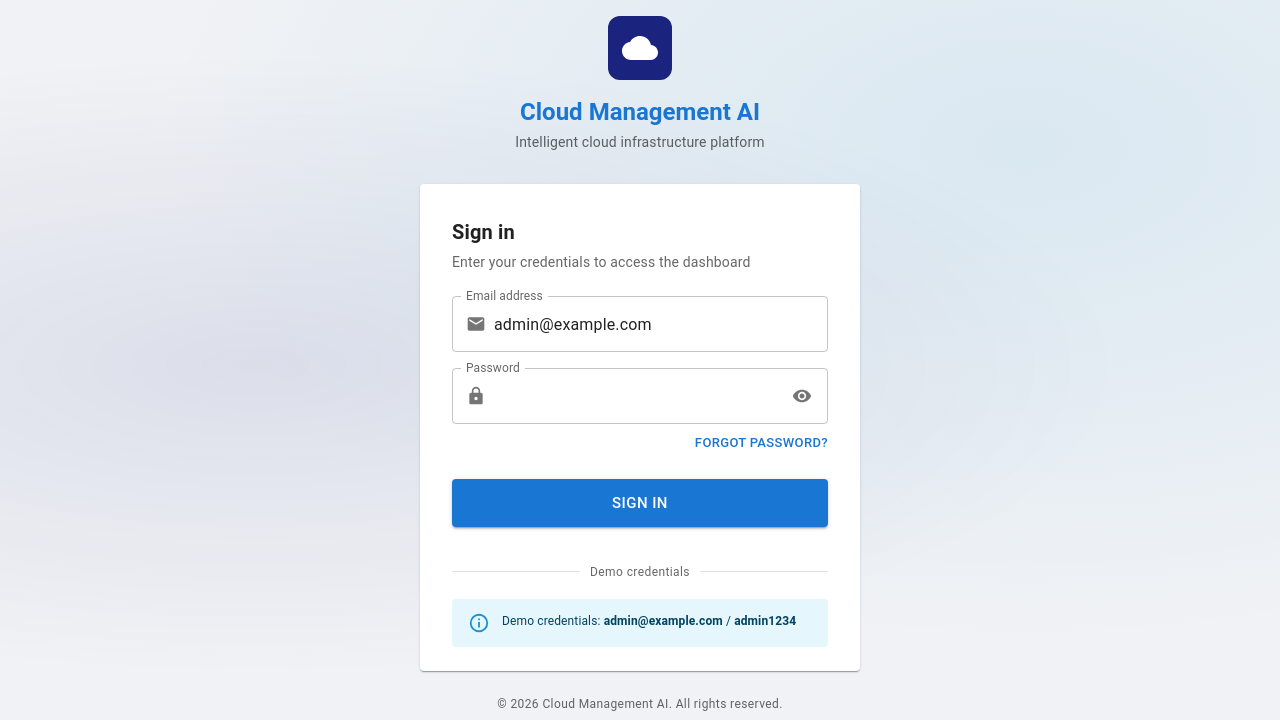
Login page › shows an error when submitting empty password
The image size is (1280, 720).
Clear the field labelled "Email address" at (661, 324), box x1=494 y1=296 x2=828 y2=352
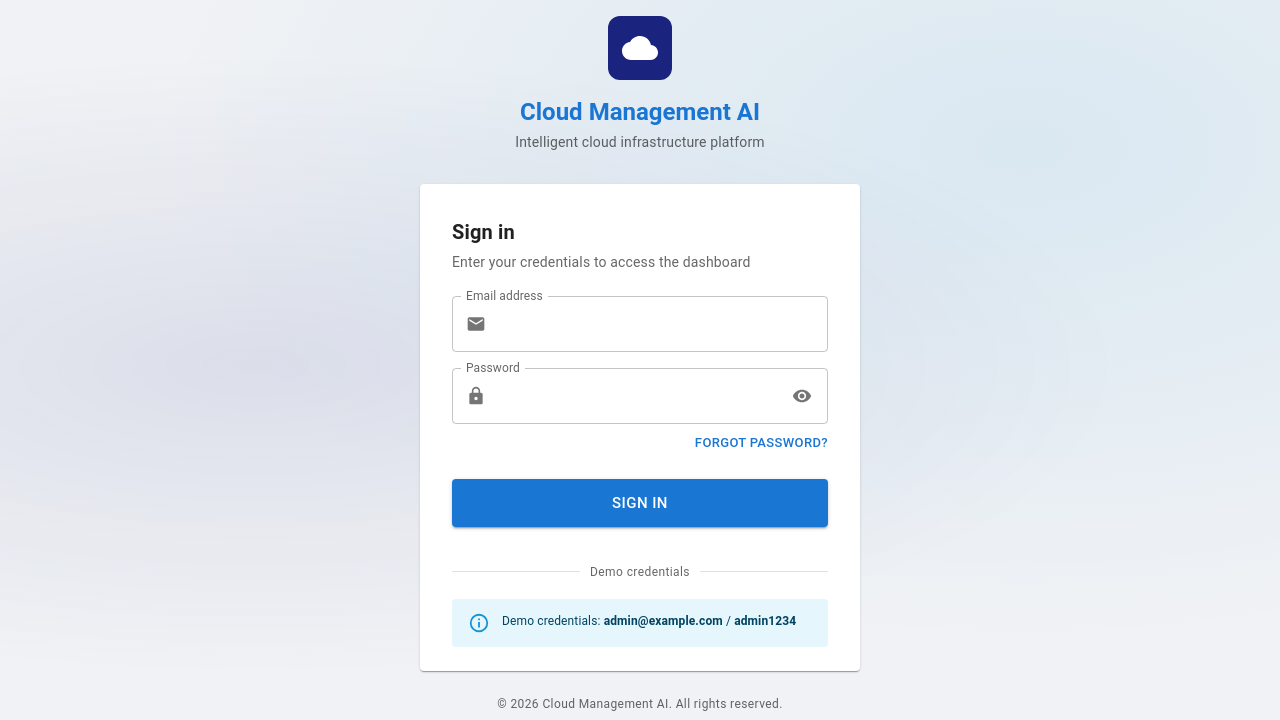
Click the button "Sign in" at (640, 503), box x1=452 y1=479 x2=828 y2=527
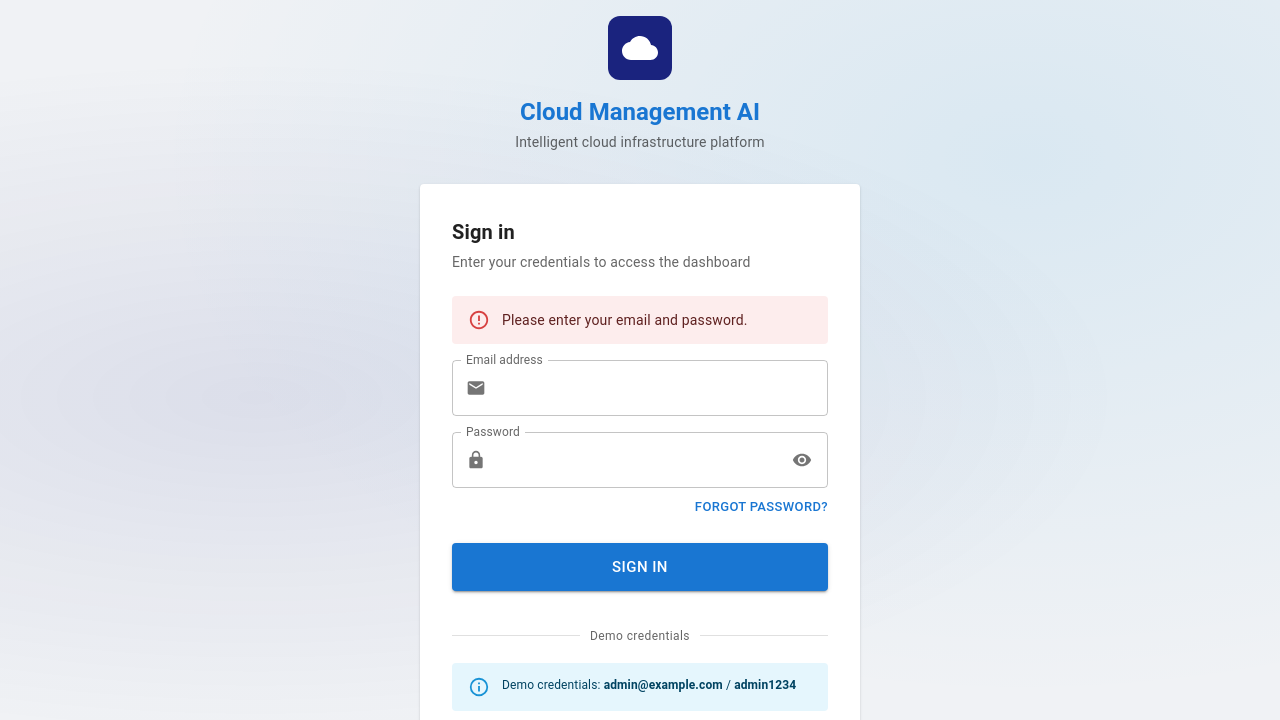
Expected: the text "Please enter your email and password." is shown, x1=502 y1=312 x2=748 y2=328
